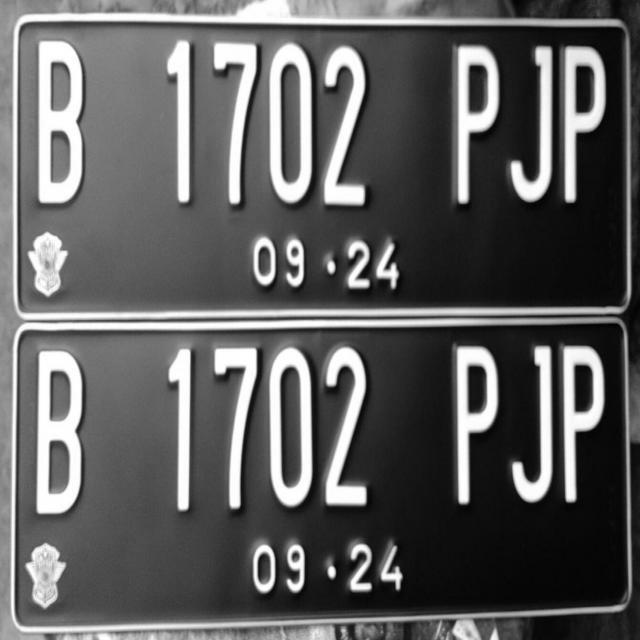0: (258, 36, 318, 212), (266, 342, 322, 518)
1: (154, 341, 214, 517), (165, 40, 202, 218)
2: (318, 41, 382, 210), (321, 346, 373, 516)
7: (210, 341, 262, 518), (210, 36, 258, 213)
B: (23, 31, 105, 234), (29, 349, 97, 522)
J: (510, 343, 563, 510), (508, 38, 554, 220)
P: (438, 40, 502, 216), (446, 338, 508, 510), (558, 46, 608, 208), (562, 343, 610, 510)
